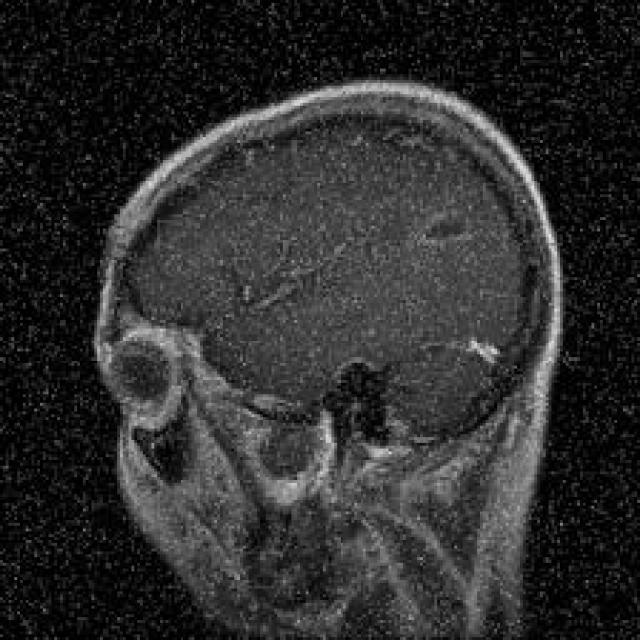glioma_tumor: (395, 194, 503, 265)
